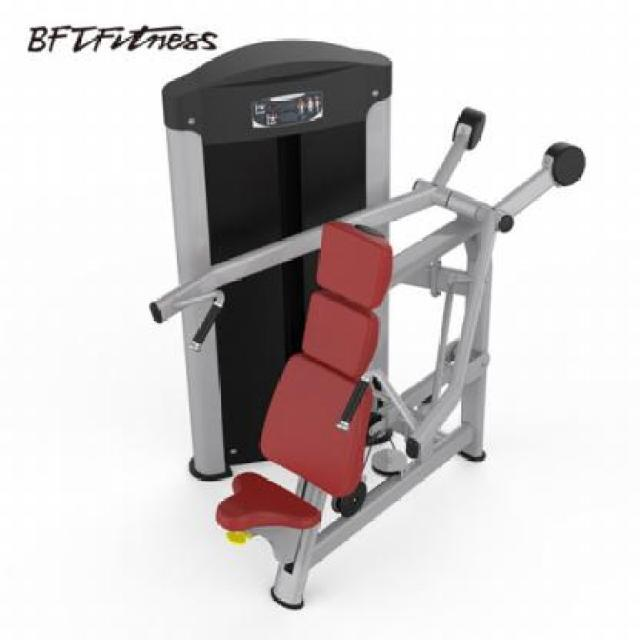shoulder press machine: (157, 57, 585, 612)
